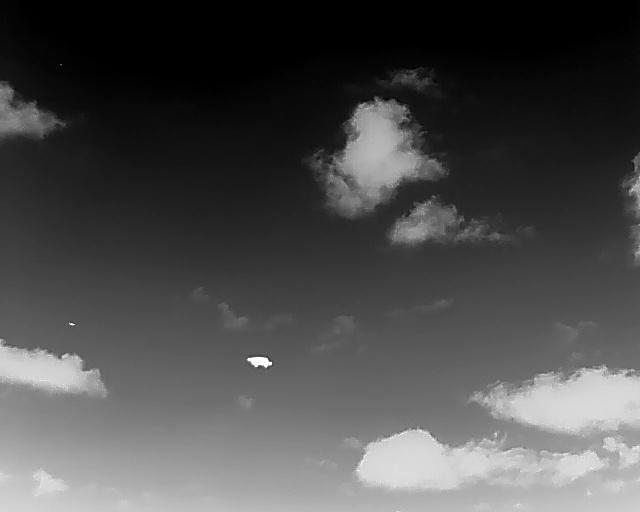fpv-drone: (247, 356, 272, 368)
